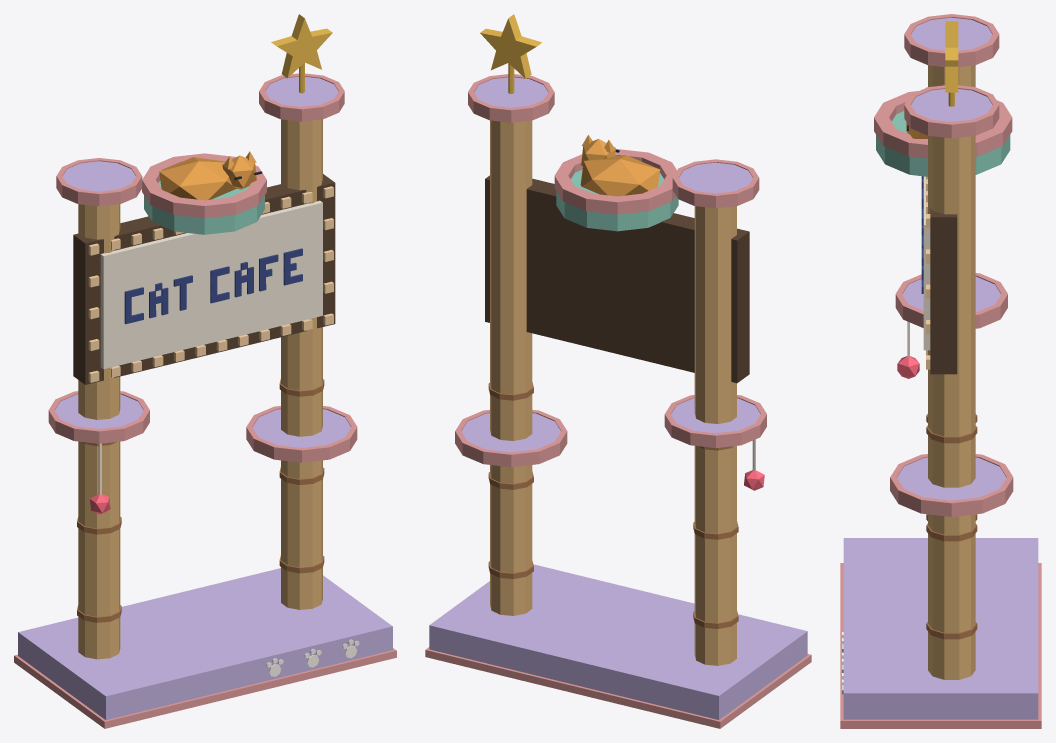
File: CatCafe_Lawn_CatTreeSign.glb
3 views of the same model, side by side, from view 1: azimuth 30°, elevation 25°; view 2: azimuth 150°, elevation 25°; view 3: azimuth 270°, elevation 25° (orthographic). The views are drawn at different scales.
Visible parts, largest first — view 1: CatCafe_Lawn_CatTreeSign, CatCafe_Lawn_CatTreeSign_NameBoard, CatCafe_Lawn_CatTreeSign_NameText, CatCafe_Lawn_CatTreeSign_Bulbs, CatCafe_Lawn_CatTreeSign_Star_Spin; view 2: CatCafe_Lawn_CatTreeSign, CatCafe_Lawn_CatTreeSign_Star_Spin; view 3: CatCafe_Lawn_CatTreeSign, CatCafe_Lawn_CatTreeSign_Star_Spin, CatCafe_Lawn_CatTreeSign_NameBoard, CatCafe_Lawn_CatTreeSign_Toy_Swing, CatCafe_Lawn_CatTreeSign_Bulbs, CatCafe_Lawn_CatTreeSign_NameText.
Part boxes in pixels (bbox=[...]): CatCafe_Lawn_CatTreeSign: bbox=[14, 62, 396, 728]; CatCafe_Lawn_CatTreeSign_NameBoard: bbox=[100, 200, 322, 369]; CatCafe_Lawn_CatTreeSign_NameText: bbox=[124, 248, 302, 324]; CatCafe_Lawn_CatTreeSign_Bulbs: bbox=[88, 186, 333, 382]; CatCafe_Lawn_CatTreeSign_Star_Spin: bbox=[271, 14, 332, 78]; CatCafe_Lawn_CatTreeSign: bbox=[425, 63, 811, 728]; CatCafe_Lawn_CatTreeSign_Star_Spin: bbox=[480, 14, 542, 78]; CatCafe_Lawn_CatTreeSign: bbox=[840, 14, 1041, 728]; CatCafe_Lawn_CatTreeSign_Star_Spin: bbox=[945, 21, 958, 92]; CatCafe_Lawn_CatTreeSign_NameBoard: bbox=[923, 176, 930, 350]; CatCafe_Lawn_CatTreeSign_Toy_Swing: bbox=[897, 321, 919, 378]; CatCafe_Lawn_CatTreeSign_Bulbs: bbox=[926, 87, 930, 369]; CatCafe_Lawn_CatTreeSign_NameText: bbox=[921, 176, 923, 293].
Bounding box in the file's own units: 3.5 × 6.97 × 1.86.
1 material, 1 textured.
